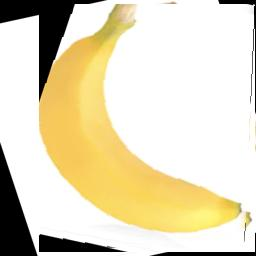Banana Fresh: (39, 4, 256, 252)
